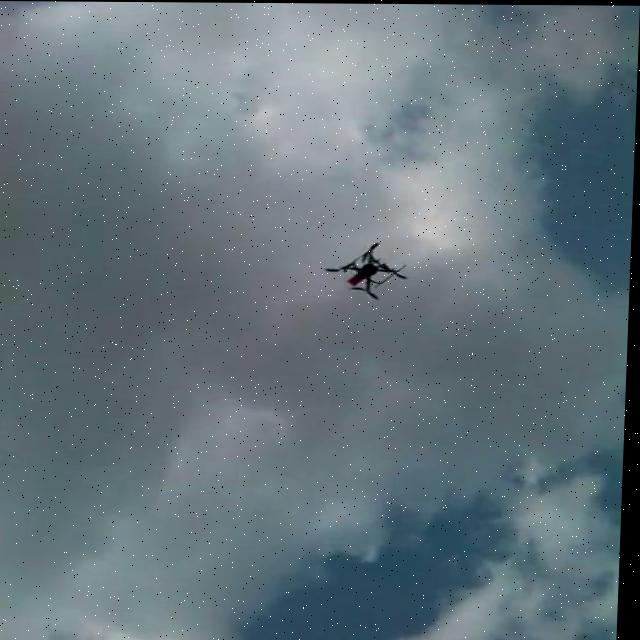drone: (322, 242, 413, 300)
